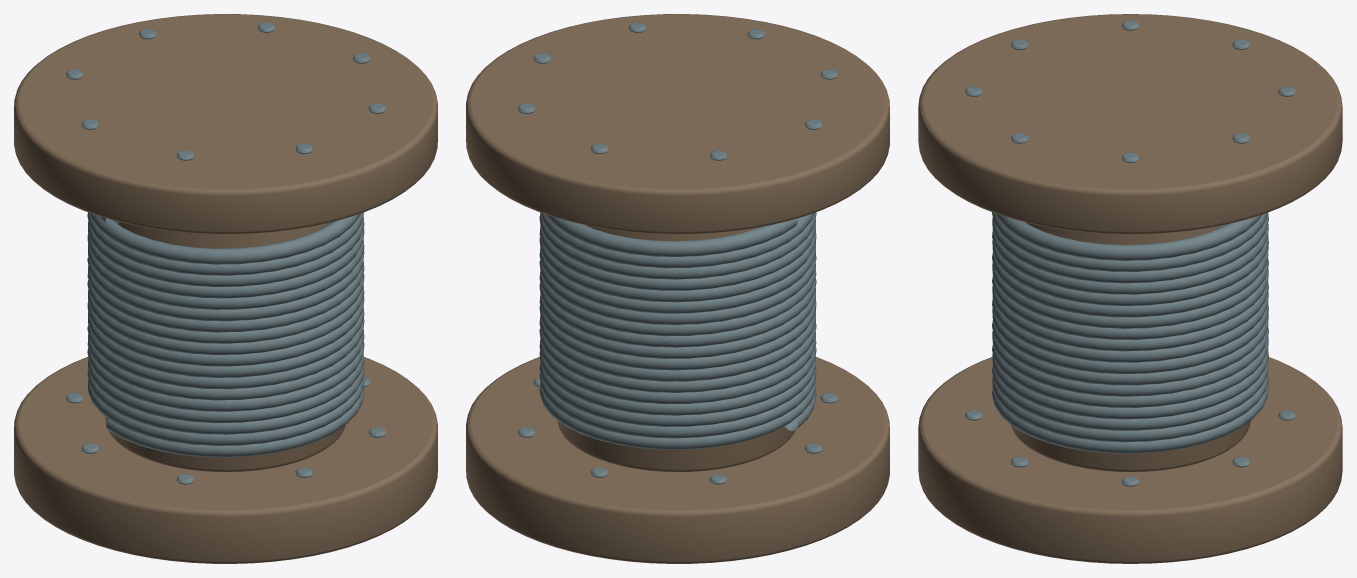
File: TouretTalas.fbx
The picture shows the model from 3 angles, left to right: view 1: azimuth 30°, elevation 25°; view 2: azimuth 150°, elevation 25°; view 3: azimuth 270°, elevation 25°; orthographic projection.
Parts seen in each view (by area): view 1: Flasque haut, Cable range, Flasque bas, Moyeu; view 2: Flasque haut, Cable range, Flasque bas, Moyeu; view 3: Flasque haut, Cable range, Flasque bas, Moyeu.
Boxes of the visible parts, bbox=[...] form: Flasque haut: bbox=[14, 14, 437, 234]; Cable range: bbox=[87, 212, 364, 457]; Flasque bas: bbox=[14, 357, 437, 563]; Moyeu: bbox=[105, 222, 345, 472]; Flasque haut: bbox=[466, 14, 889, 234]; Cable range: bbox=[539, 212, 816, 449]; Flasque bas: bbox=[466, 357, 889, 563]; Moyeu: bbox=[557, 225, 795, 472]; Flasque haut: bbox=[918, 14, 1342, 234]; Cable range: bbox=[992, 212, 1268, 453]; Flasque bas: bbox=[918, 357, 1342, 563]; Moyeu: bbox=[1011, 222, 1250, 472].
Size of the model in its own units: 130 by 131 by 130.
